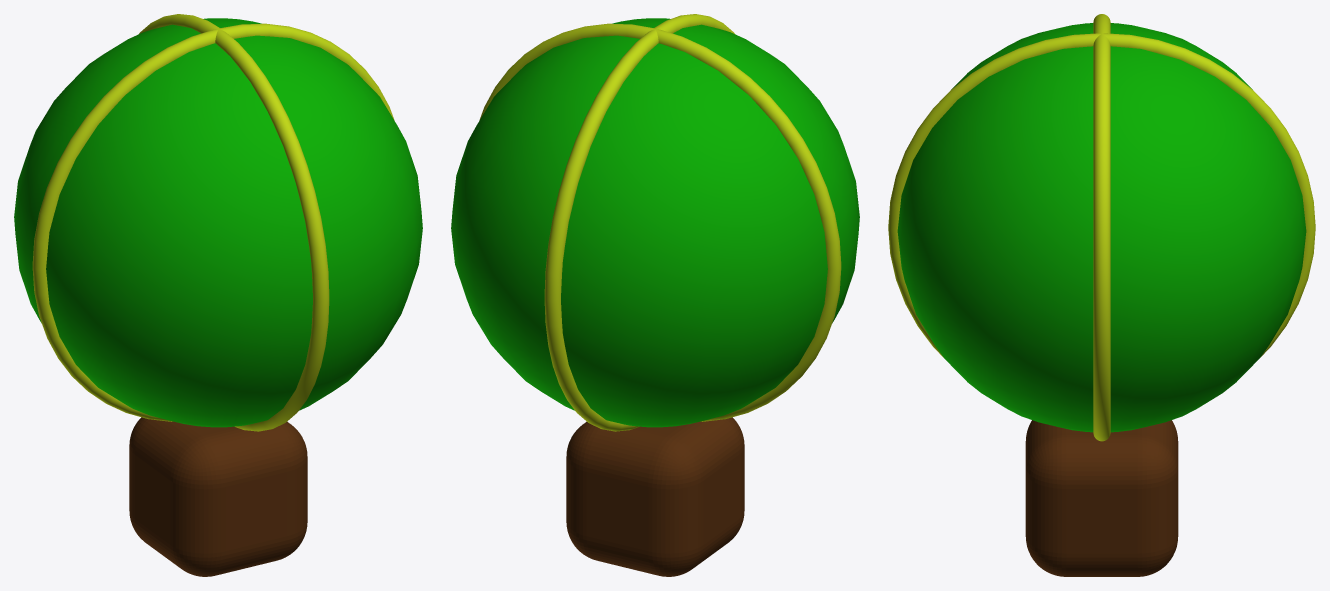
Rendered from ballon.fbx.
The picture shows the model from 3 angles, left to right: view 1: azimuth 30°, elevation 25°; view 2: azimuth 150°, elevation 25°; view 3: azimuth 270°, elevation 25°; orthographic projection.
Visible parts, largest first — view 1: Cube; view 2: Cube; view 3: Cube.
Boxes of the visible parts, x1,y1,x2,y2 form: Cube: (14,14,422,576); Cube: (451,14,859,576); Cube: (888,14,1315,576).
Size of the model in its own units: 208 by 282 by 208.
